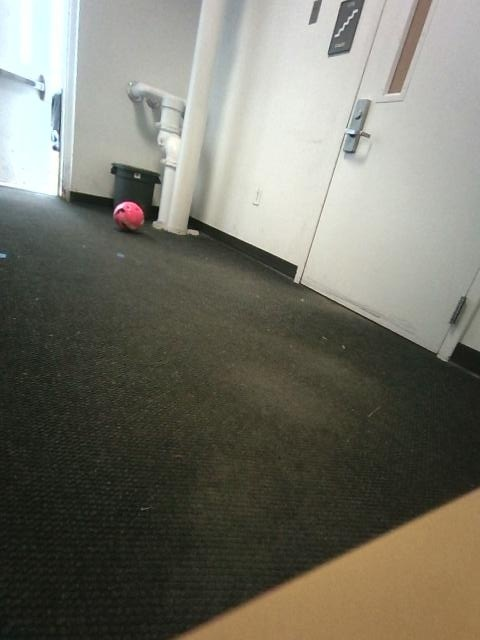ball: (113, 201, 143, 231)
